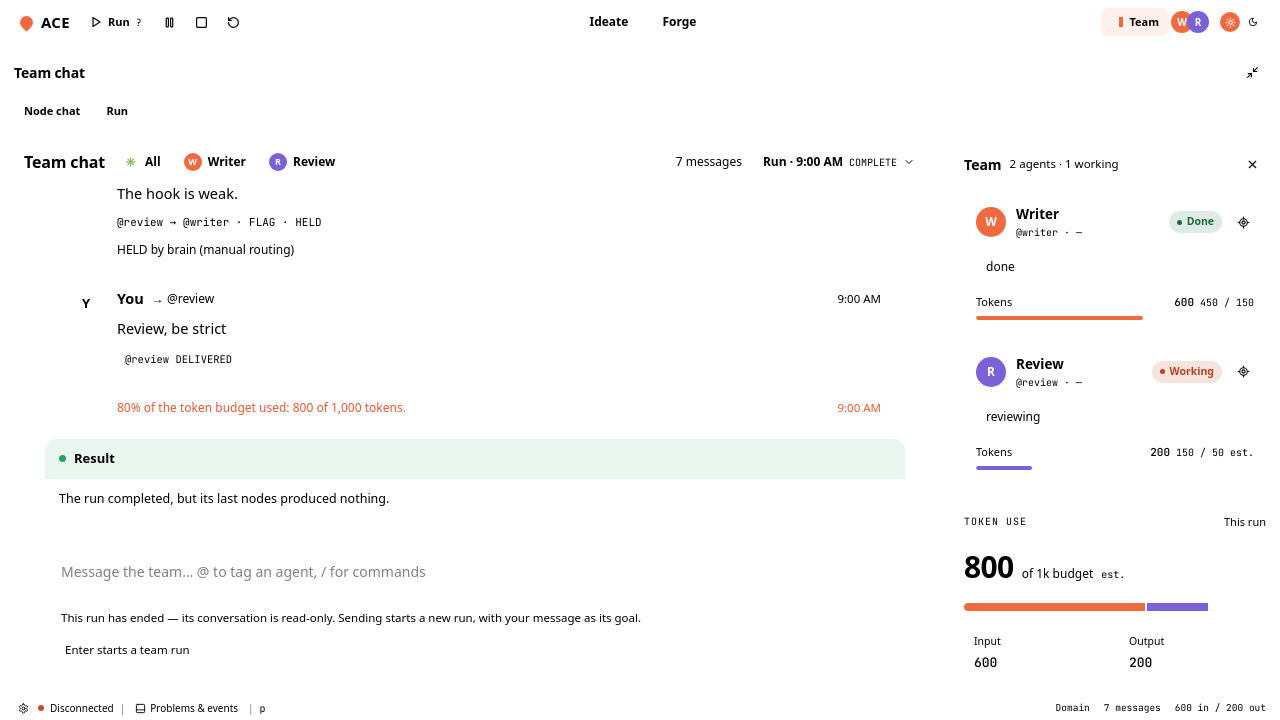
Test: Domain page › an ended run's pill offers New run: a fresh goal, whatever ran before
(page scrolled)
Click the button "Run · 9:00 AM COMPLETE": [839, 162] box [752,148,926,176]
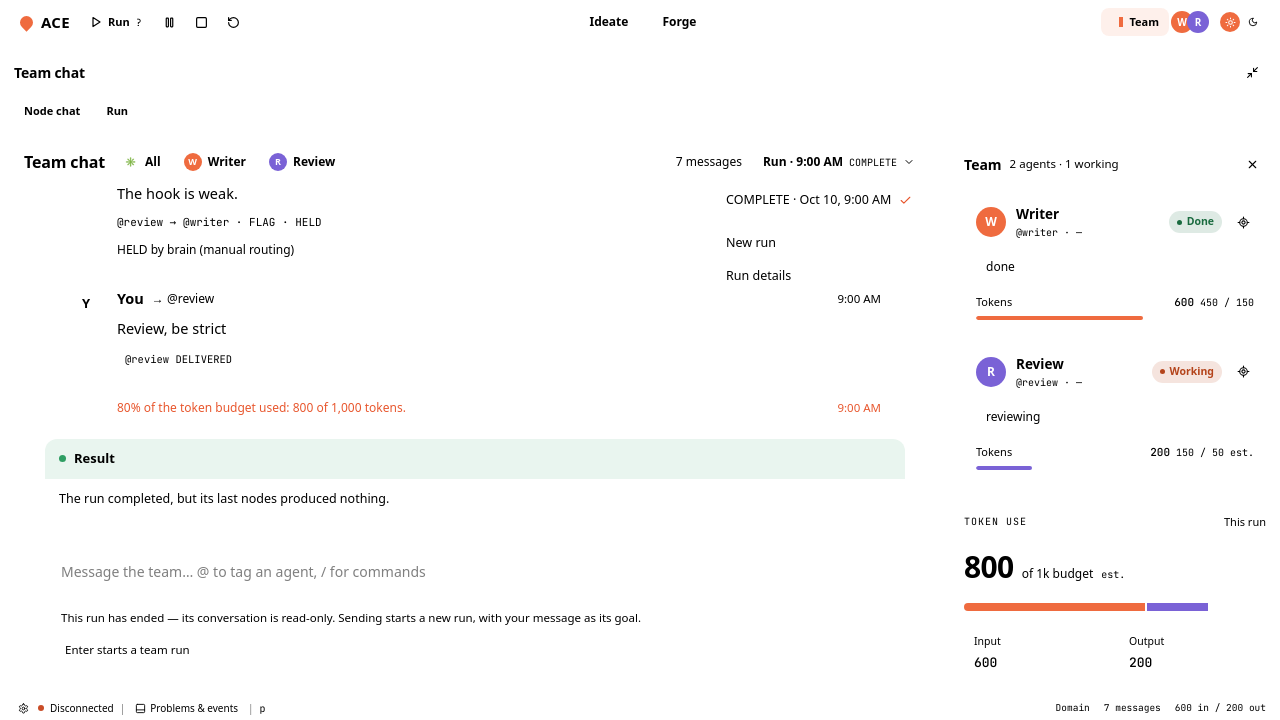
Result: the menu item "Run details" is shown at [726,267,791,284]
Click the menu item "New run": [751, 242] box [726,234,776,251]
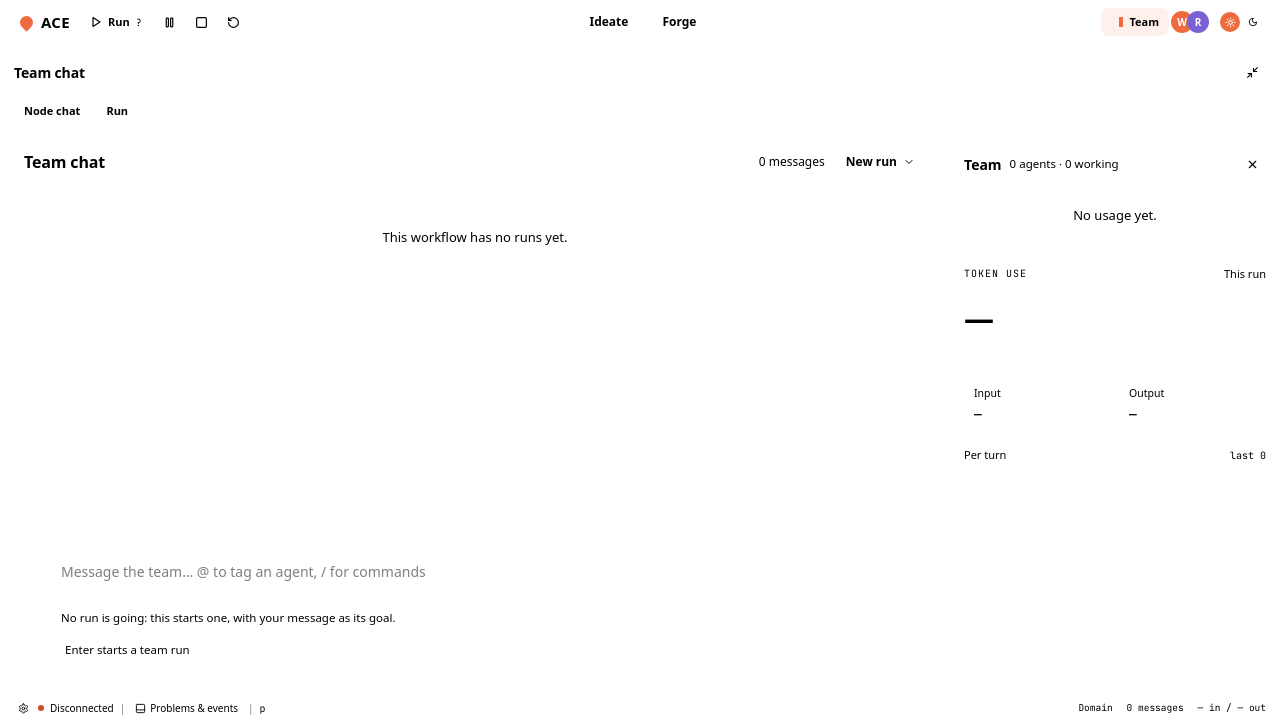
Result: the text "This workflow has no runs yet." is shown at [382,228,568,246]
Result: the button "New run" is shown at [835,148,926,176]
